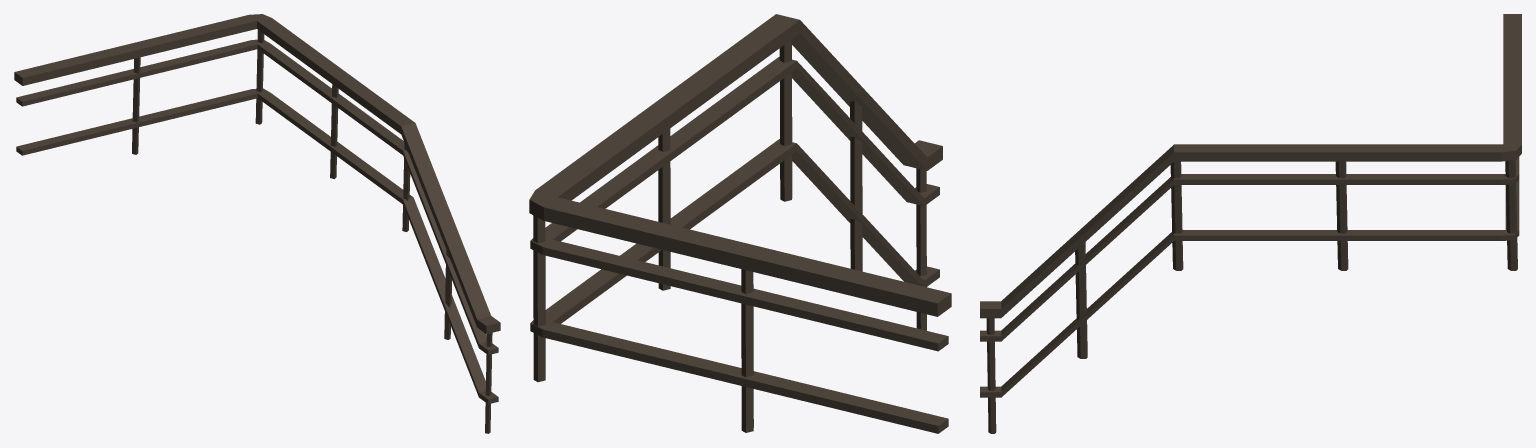
Rendered from SM_Bld_House_Stairs_03_Railing_02.fbx.
The picture shows the model from 3 angles, left to right: view 1: azimuth 30°, elevation 25°; view 2: azimuth 150°, elevation 25°; view 3: azimuth 270°, elevation 25°; orthographic projection. The views are drawn at different scales.
Visible parts, largest first — view 1: SM_Bld_House_Stairs_03_Railing_02; view 2: SM_Bld_House_Stairs_03_Railing_02; view 3: SM_Bld_House_Stairs_03_Railing_02.
Part boxes in pixels (left/top/right/bottom): SM_Bld_House_Stairs_03_Railing_02: left=14, top=14, right=500, bottom=433; SM_Bld_House_Stairs_03_Railing_02: left=529, top=14, right=951, bottom=433; SM_Bld_House_Stairs_03_Railing_02: left=980, top=14, right=1521, bottom=433.
Bounding box in the file's own units: 237 × 227 × 392.
